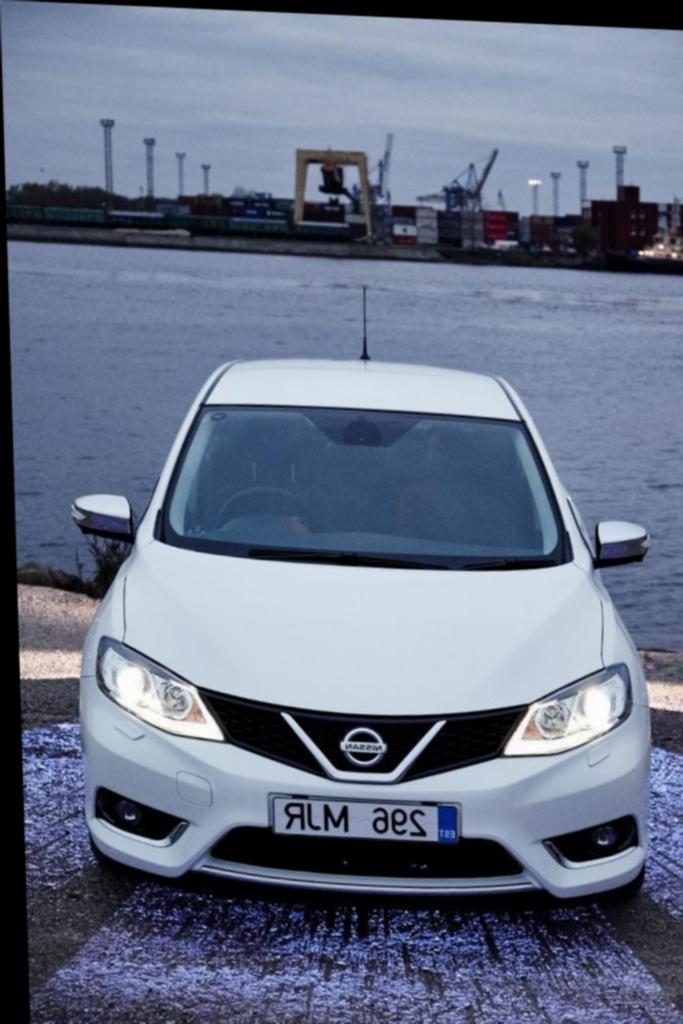License_Plate: (270, 796, 462, 845)
